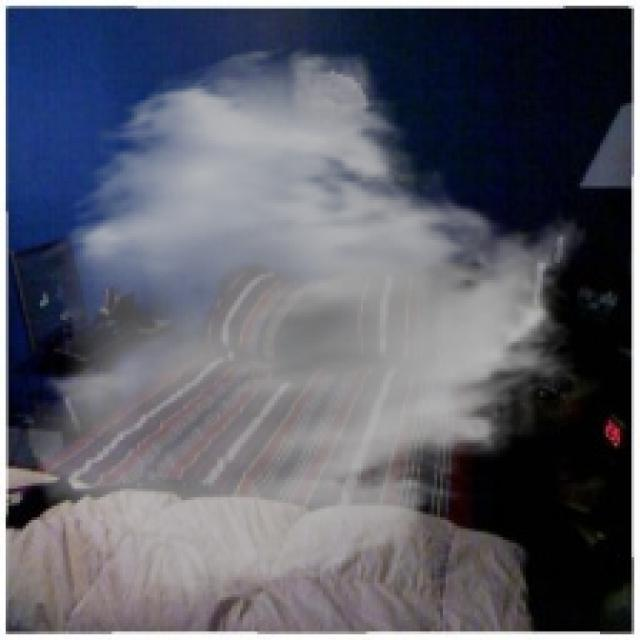Smoke: (22, 42, 588, 608)
